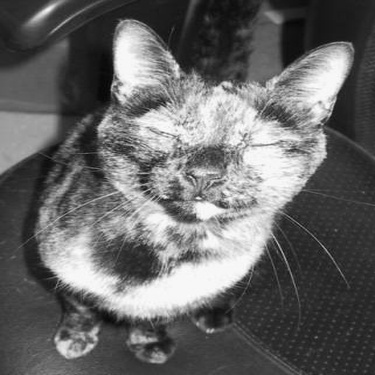cat: (17, 14, 355, 352)
